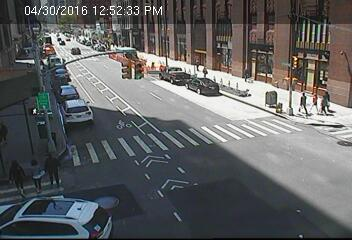neg: (279, 167, 316, 216), (96, 105, 125, 144), (98, 188, 125, 225), (225, 142, 252, 177), (33, 90, 57, 122), (257, 84, 281, 116), (250, 34, 272, 63), (69, 41, 90, 69), (159, 110, 180, 138), (295, 49, 312, 72), (118, 53, 134, 74)
pos: (3, 156, 30, 191), (24, 154, 50, 189), (46, 149, 71, 182), (319, 90, 336, 113), (297, 91, 311, 111), (310, 90, 322, 107), (202, 63, 212, 76)
